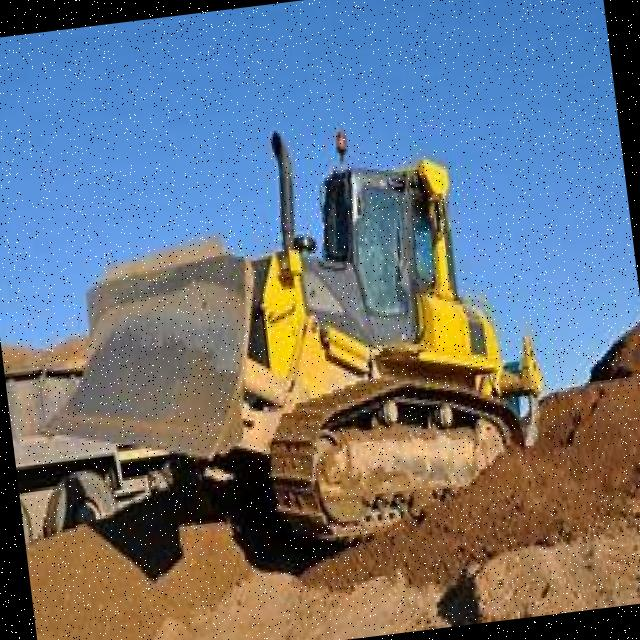Bulldozer: (21, 112, 570, 584)
